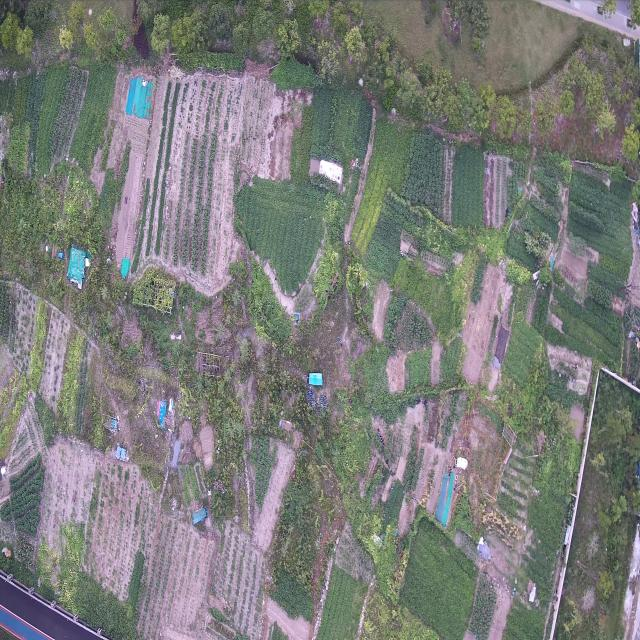UAV: (164, 438, 187, 472)
